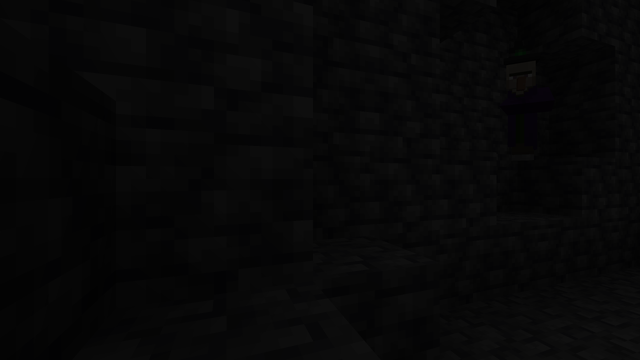sorcieres: (507, 54, 544, 161)
